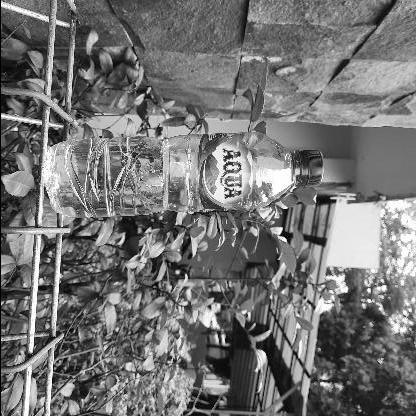plastic_bottles: (38, 133, 325, 220)
